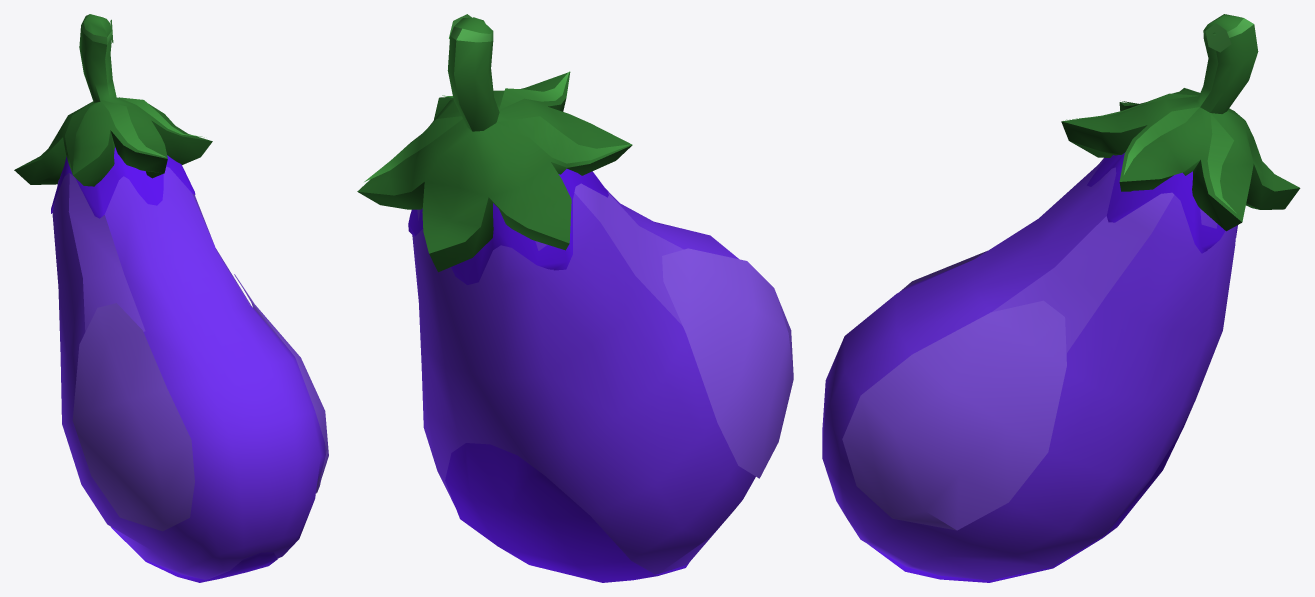
File: Eggplant.fbx
The picture shows the model from 3 angles, left to right: view 1: azimuth 30°, elevation 25°; view 2: azimuth 150°, elevation 25°; view 3: azimuth 270°, elevation 25°; orthographic projection. The views are drawn at different scales.
Parts seen in each view (by area): view 1: Eggplant; view 2: Eggplant; view 3: Eggplant.
Part boxes in pixels (<box>): Eggplant: <box>14,14,328,582</box>; Eggplant: <box>357,14,793,582</box>; Eggplant: <box>822,14,1300,582</box>.
Size of the model in its own units: 2.25 by 4.99 by 3.94.
